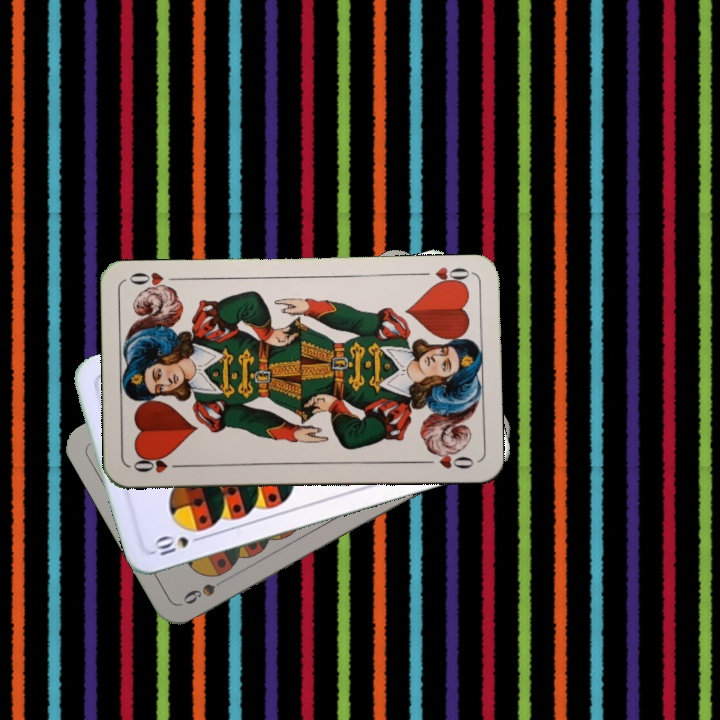HO: (415, 263, 474, 289), (129, 453, 187, 476)
S10: (149, 531, 208, 558)
S9: (179, 571, 233, 607)
